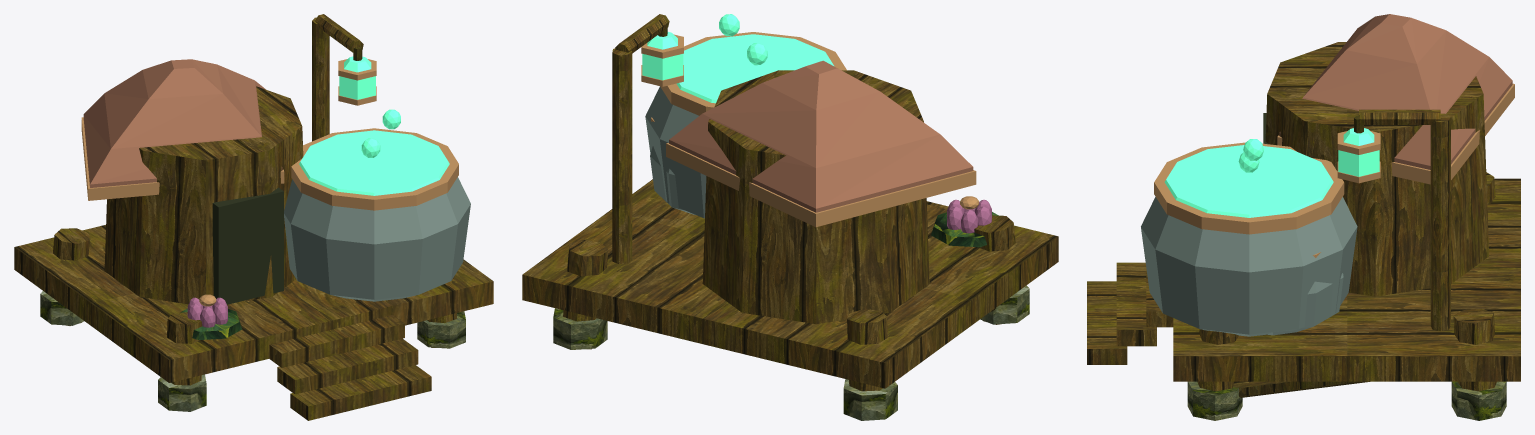
The model's file is 05-sage-hut.glb.
3 renders of one model, left to right at view 1: azimuth 30°, elevation 25°; view 2: azimuth 150°, elevation 25°; view 3: azimuth 270°, elevation 25°, orthographic. The views are drawn at different scales.
Visible parts, largest first — view 1: 05-sage-hut; view 2: 05-sage-hut; view 3: 05-sage-hut.
Boxes of the visible parts, box(x1,y1,x2,y2) form: 05-sage-hut: box(14, 14, 493, 420); 05-sage-hut: box(522, 14, 1058, 420); 05-sage-hut: box(1087, 14, 1520, 420).
Size of the model in its own units: 2.86 by 2.19 by 2.92.
Materials: 10 (4 with a texture image).
